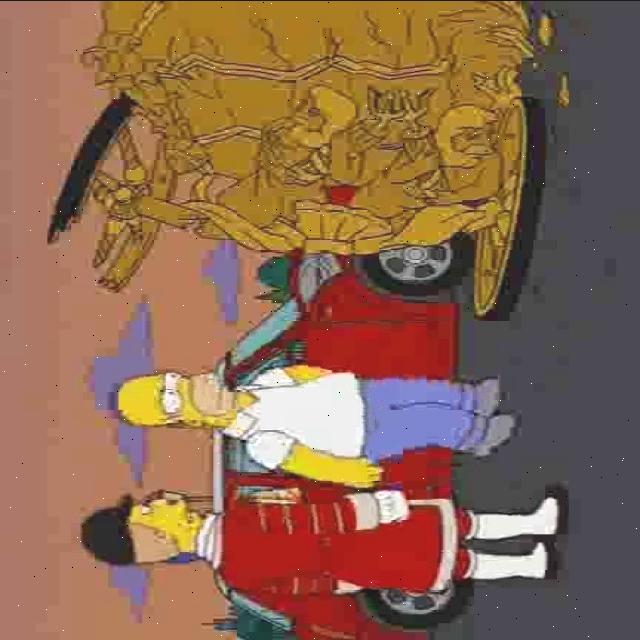Homer Simpson: (107, 367, 249, 429)
